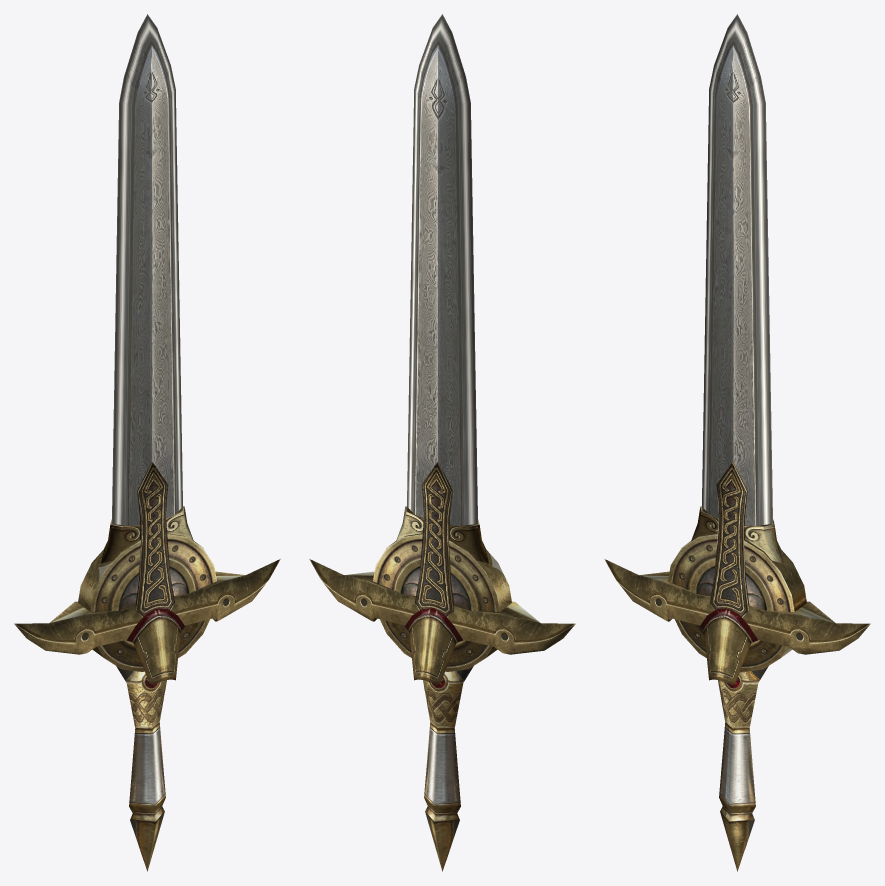
File: Caliburn.fbx
The picture shows the model from 3 angles, left to right: view 1: azimuth 30°, elevation 25°; view 2: azimuth 150°, elevation 25°; view 3: azimuth 330°, elevation 25°; orthographic projection.
Parts seen in each view (by area): view 1: obj1; view 2: obj1; view 3: obj1.
Boxes of the visible parts, x1,y1,x2,y2 form: obj1: (14,14,280,871); obj1: (309,14,575,871); obj1: (604,14,870,871).
Bounding box in the file's own units: 87.82 × 373 × 1145.
